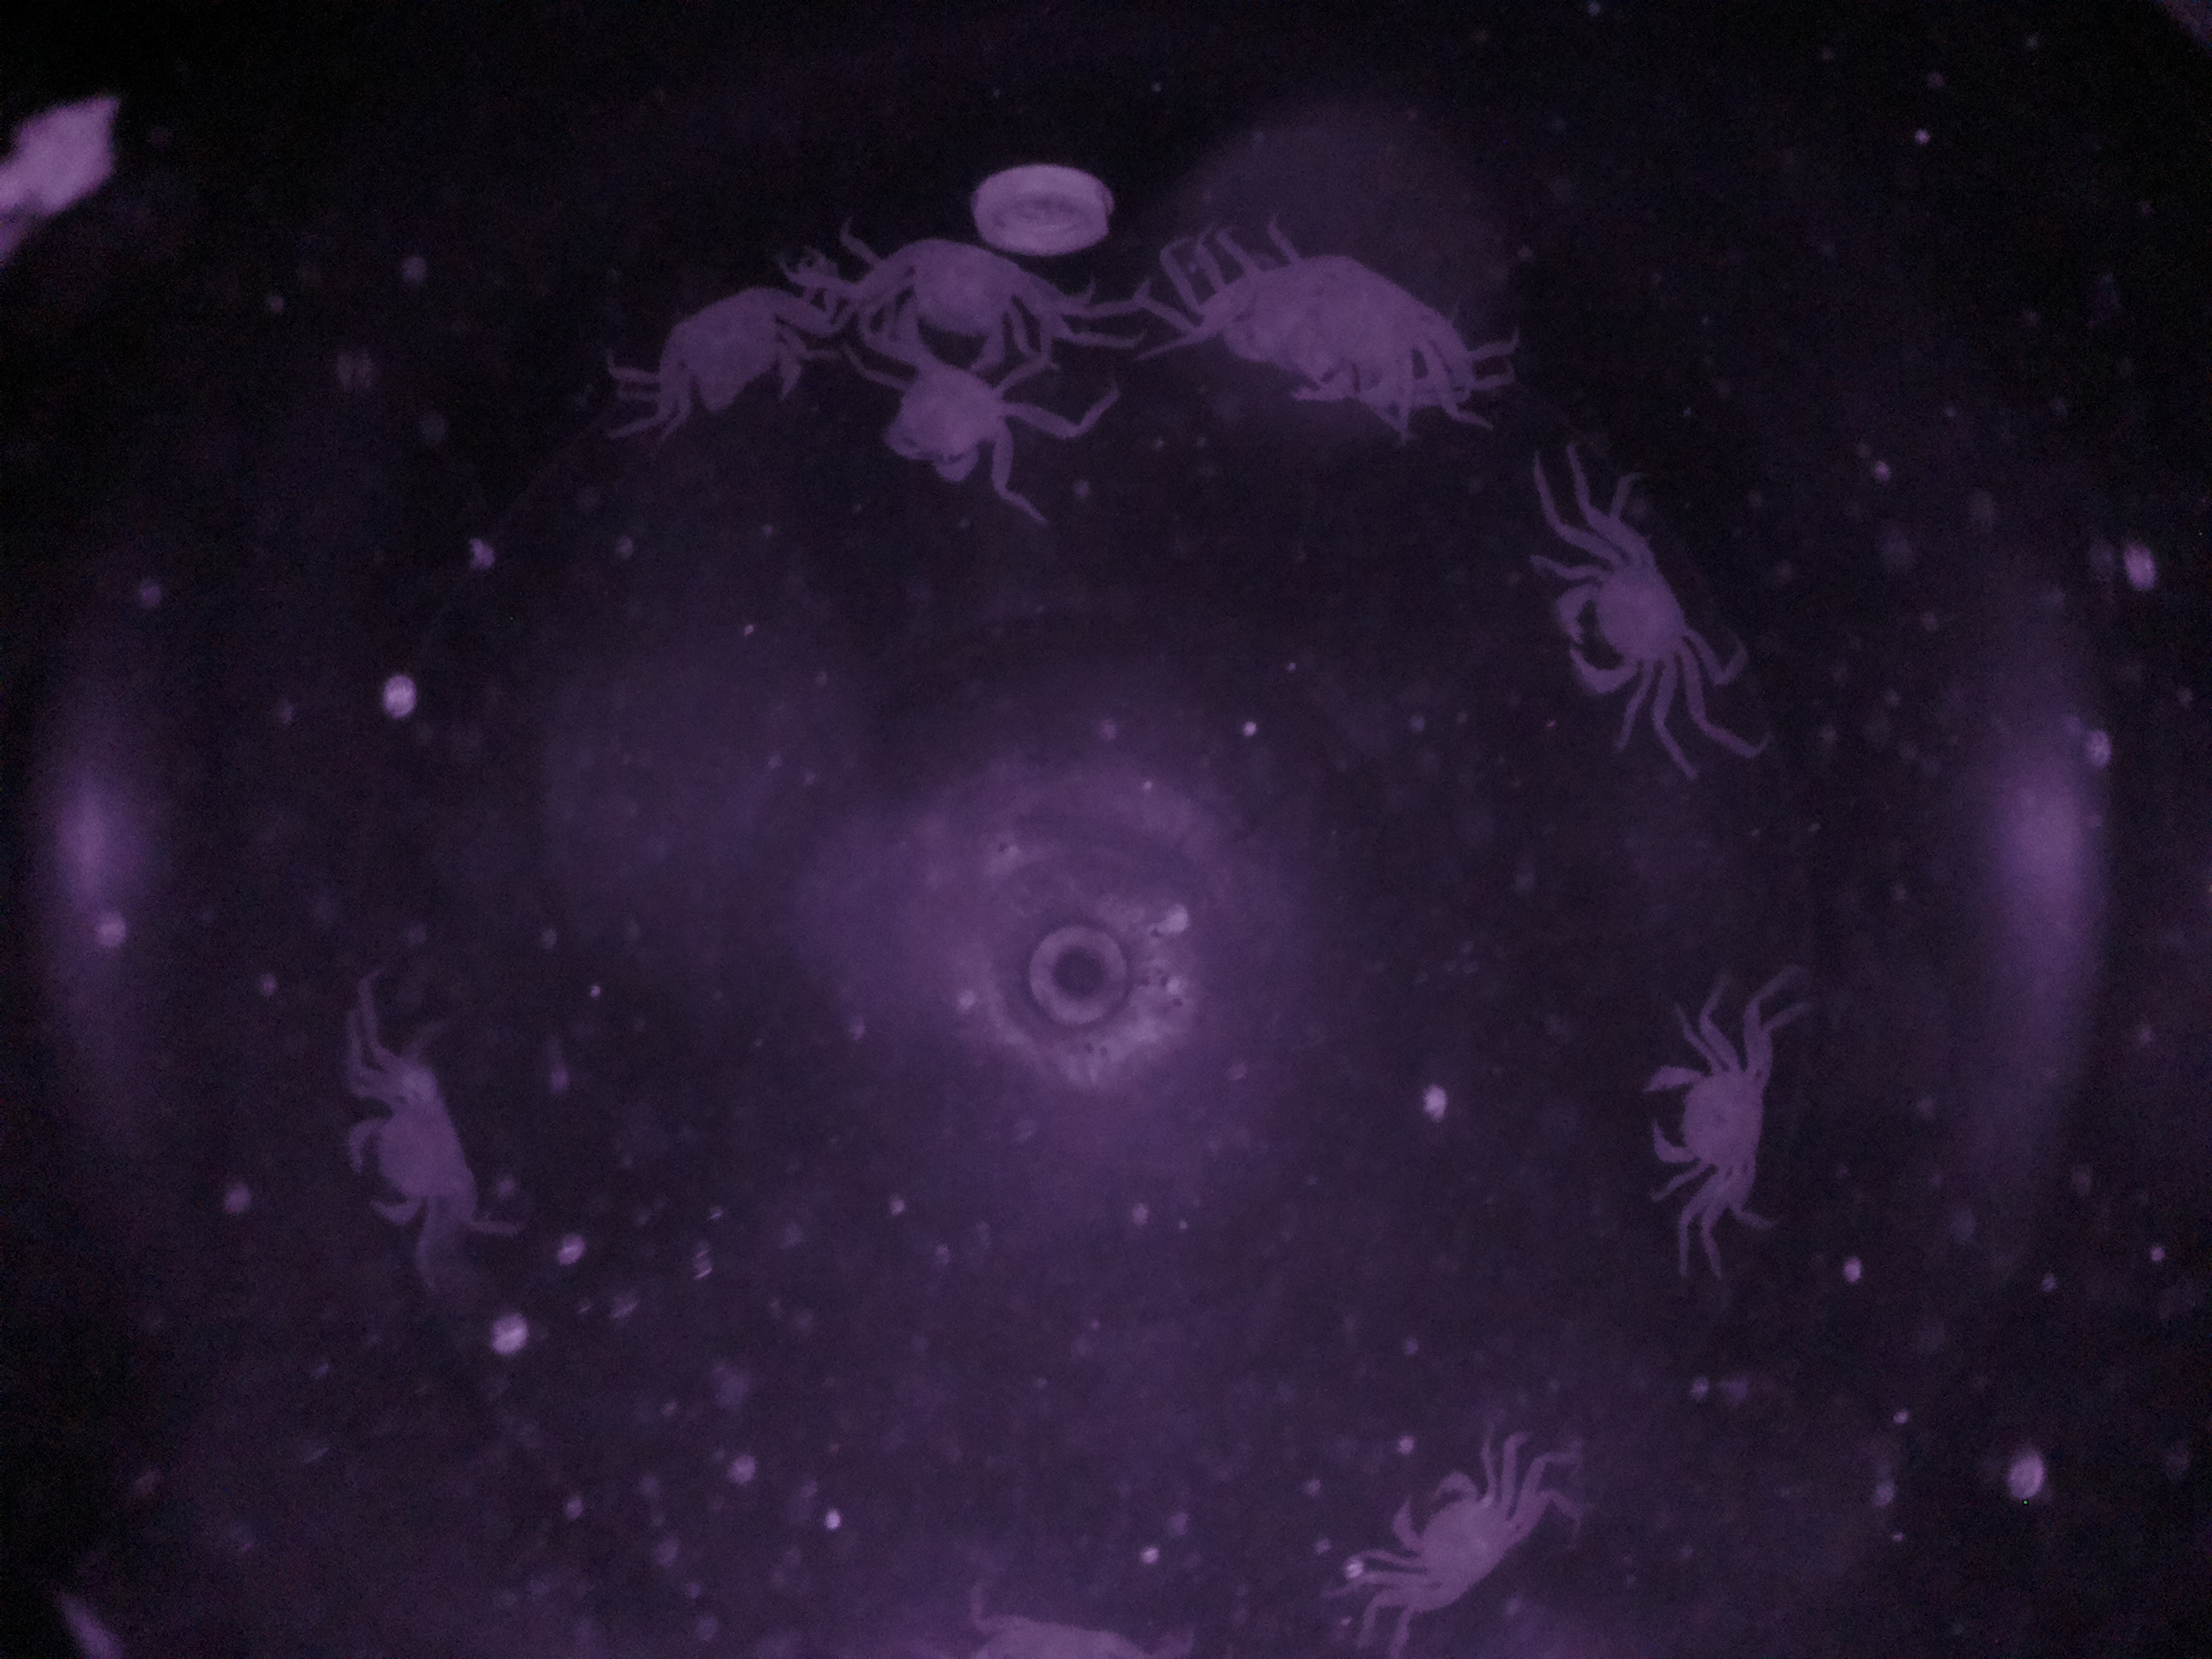Crab: (1629, 1011, 1789, 1222), (1536, 526, 1709, 720), (326, 1056, 489, 1255), (1357, 1452, 1536, 1619)
